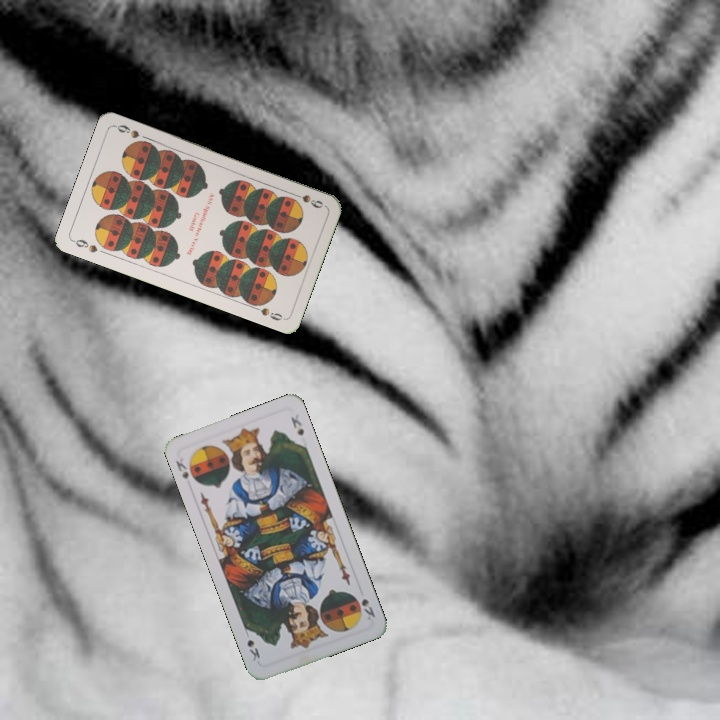S9: (287, 189, 326, 211), (69, 235, 100, 255)
SK: (357, 594, 378, 623), (171, 454, 191, 483)
